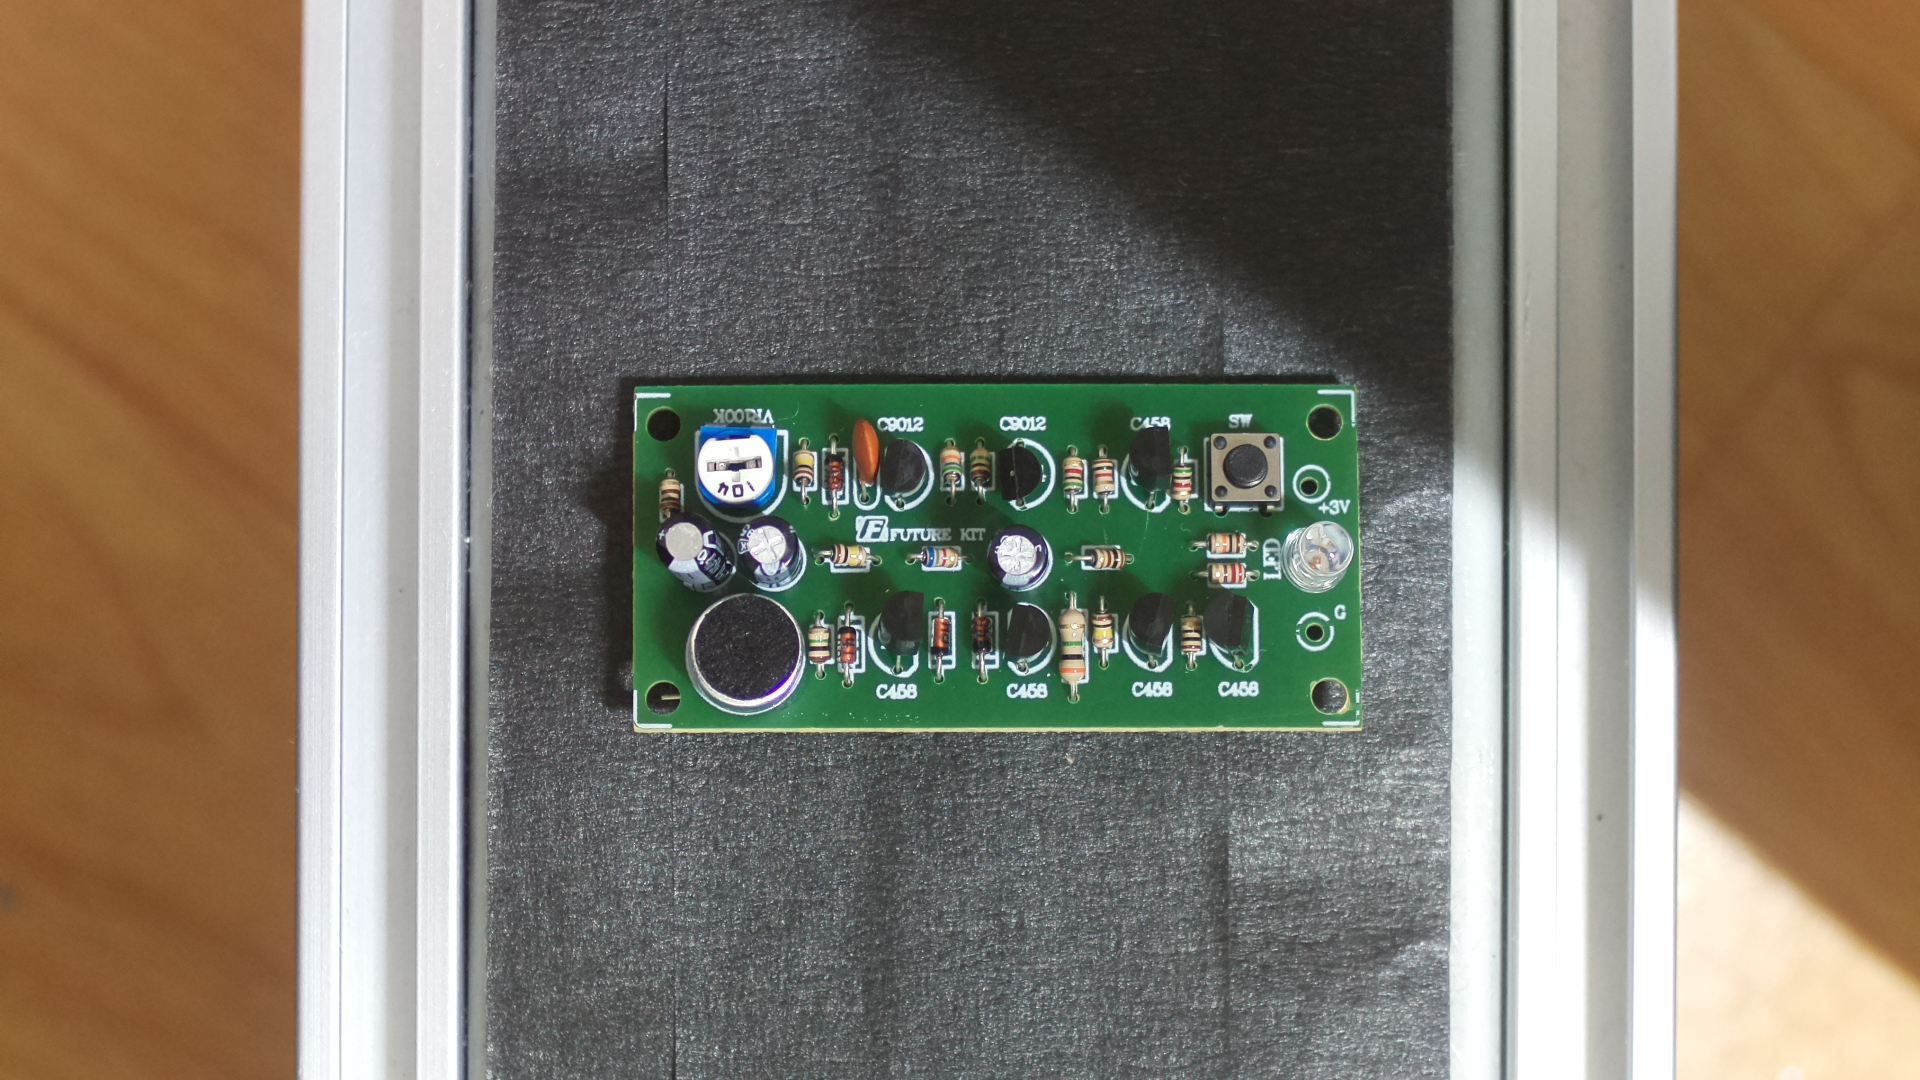A_Normal: (621, 378, 1371, 738)
